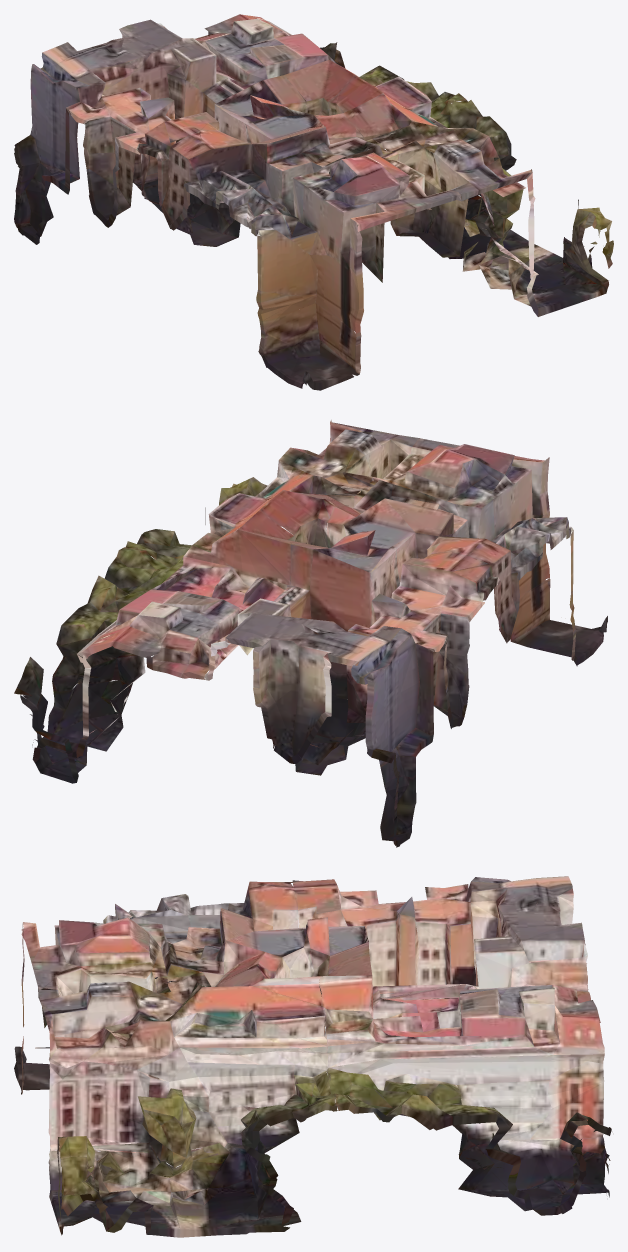
3 views of the same model, one above another, from view 1: azimuth 30°, elevation 25°; view 2: azimuth 150°, elevation 25°; view 3: azimuth 270°, elevation 25° (orthographic). The views are drawn at different scales.
Visible parts, largest first — view 1: Mesh_0; view 2: Mesh_0; view 3: Mesh_0.
Boxes of the visible parts, x1,y1,x2,y2 form: Mesh_0: (14, 14, 613, 390); Mesh_0: (14, 420, 607, 847); Mesh_0: (14, 876, 611, 1237).
Bounding box in the file's own units: 66.85 × 31.31 × 82.77.
1 material, 1 textured.
